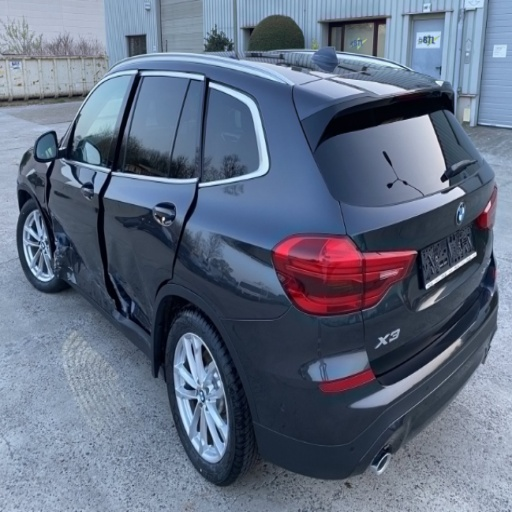dent: (114, 207, 186, 310), (110, 261, 151, 339), (52, 218, 84, 286), (78, 265, 114, 311), (27, 167, 47, 207), (110, 302, 127, 322)
